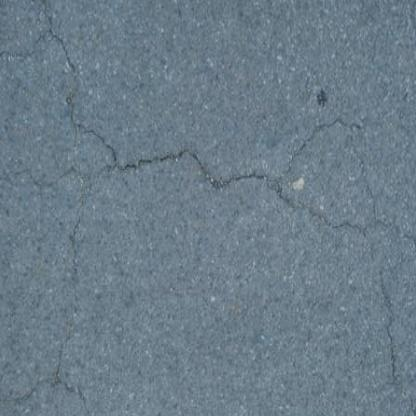Cracks: (57, 114, 397, 253), (298, 188, 416, 416), (0, 166, 92, 416), (18, 0, 115, 152), (19, 325, 121, 416), (0, 26, 67, 76)
